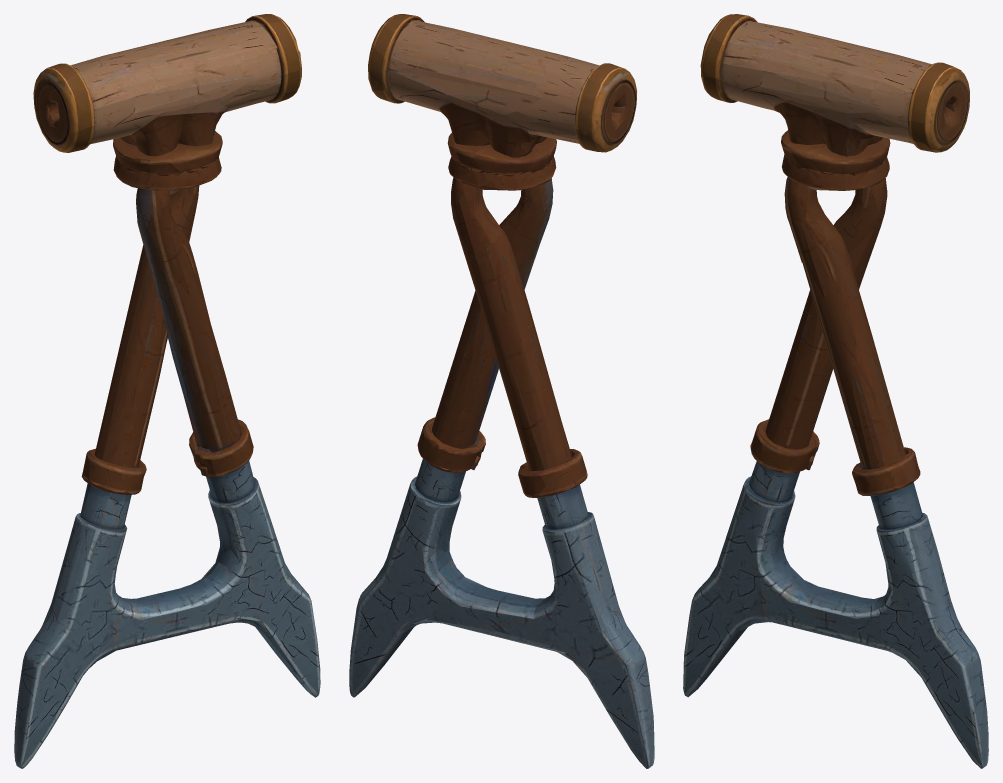
The model's file is gancho-low.glb.
3 views of the same model, side by side, from view 1: azimuth 30°, elevation 25°; view 2: azimuth 150°, elevation 25°; view 3: azimuth 330°, elevation 25° (orthographic).
Size of the model in its own units: 0.8628 by 1.9 by 0.2652.
1 material, 1 textured.
